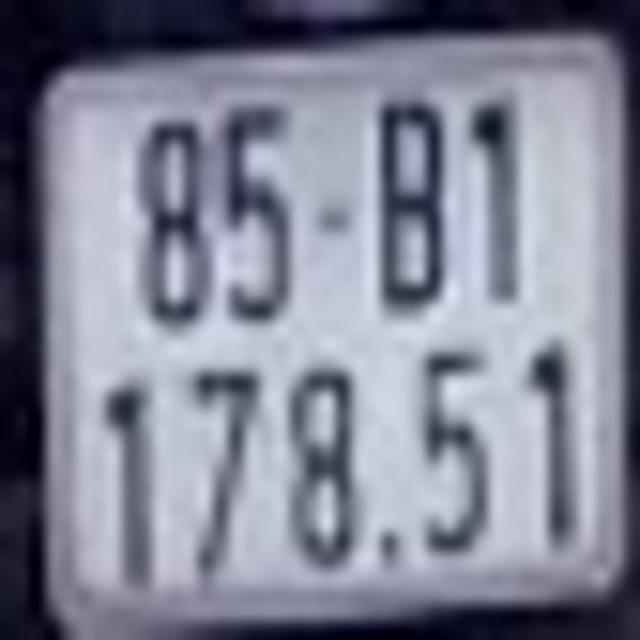1: (470, 100, 534, 304), (105, 375, 162, 582), (530, 340, 578, 542)
5: (416, 348, 496, 556), (228, 100, 296, 326)
7: (181, 363, 253, 584)
8: (136, 114, 215, 317), (282, 362, 362, 562)
B: (371, 100, 449, 306)
